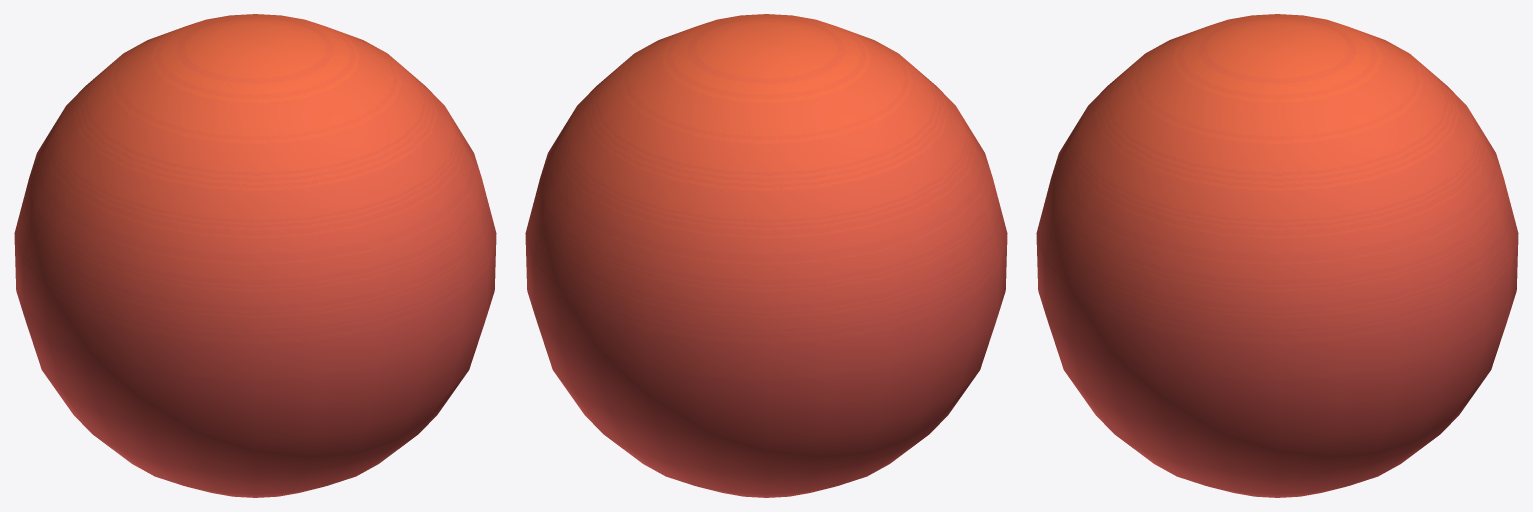
The model's file is ball-red.glb.
3 renders of one model, left to right at view 1: azimuth 30°, elevation 25°; view 2: azimuth 150°, elevation 25°; view 3: azimuth 270°, elevation 25°, orthographic.
Parts seen in each view (by area): view 1: ball-red; view 2: ball-red; view 3: ball-red.
Boxes of the visible parts, x1=… form: ball-red: x1=14, y1=14, x2=496, y2=497; ball-red: x1=525, y1=14, x2=1007, y2=497; ball-red: x1=1036, y1=14, x2=1518, y2=497.
Bounding box in the file's own units: 0.0699 × 0.0697 × 0.0699.
1 material, 1 textured.
